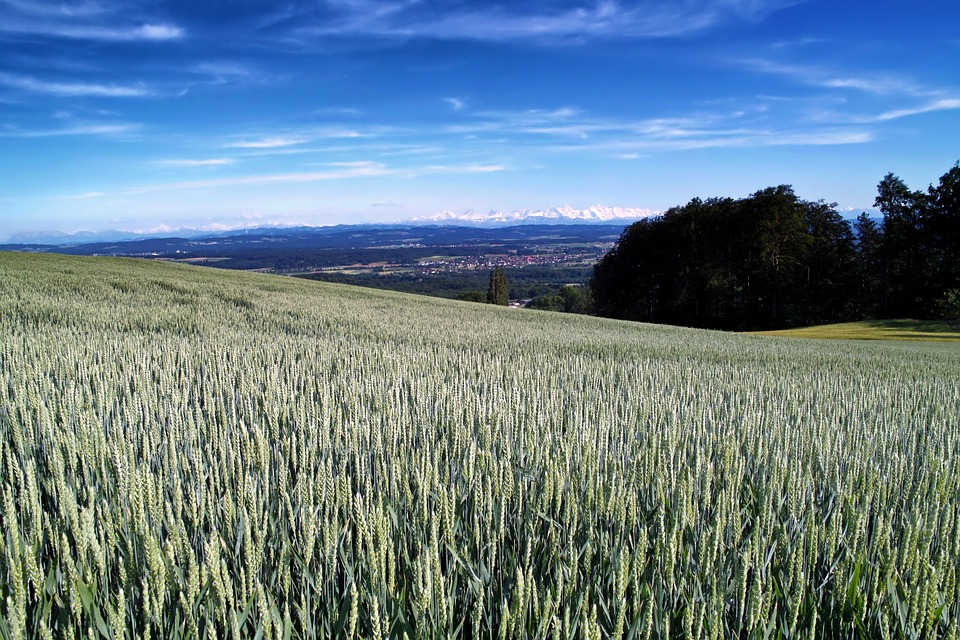Wheat: (54, 410, 770, 637)
